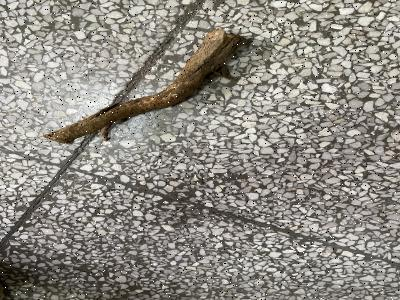Root: (44, 29, 246, 143)
